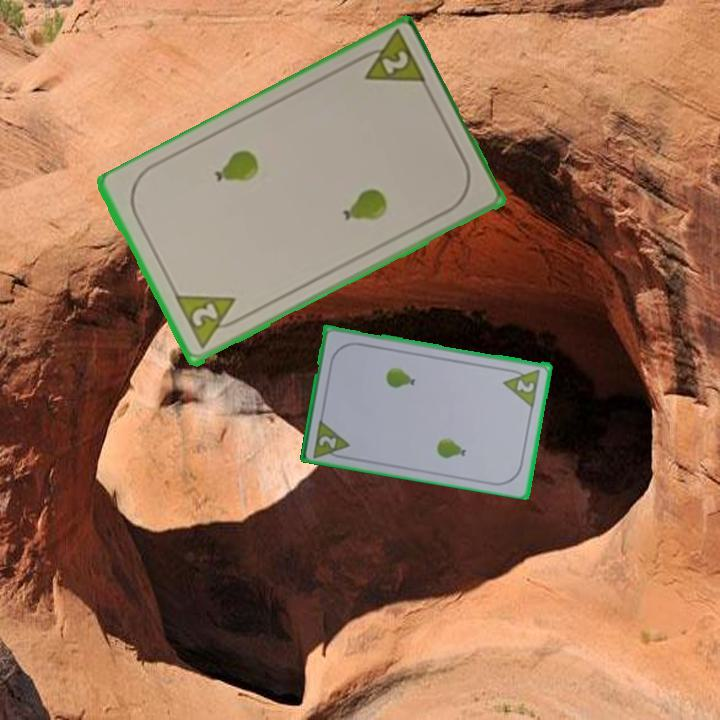2p: (350, 28, 430, 89), (171, 291, 248, 353), (310, 415, 353, 462), (500, 364, 543, 409)
